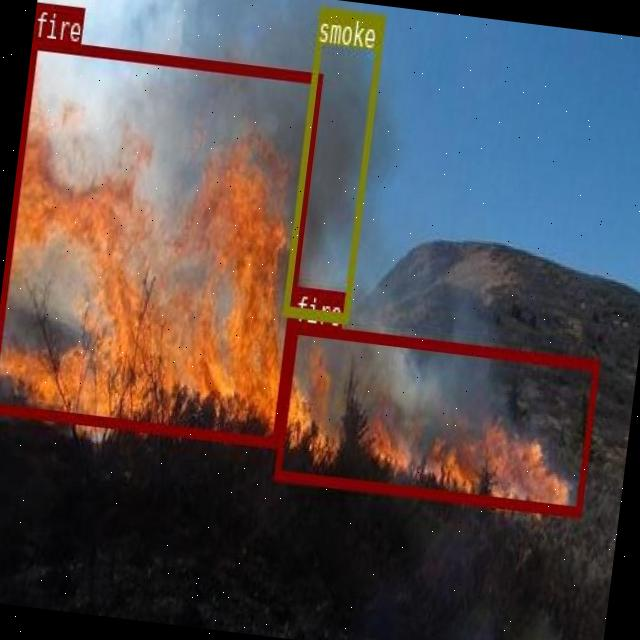fire: (0, 35, 322, 444), (274, 322, 598, 515)
smoke: (282, 5, 384, 322)
